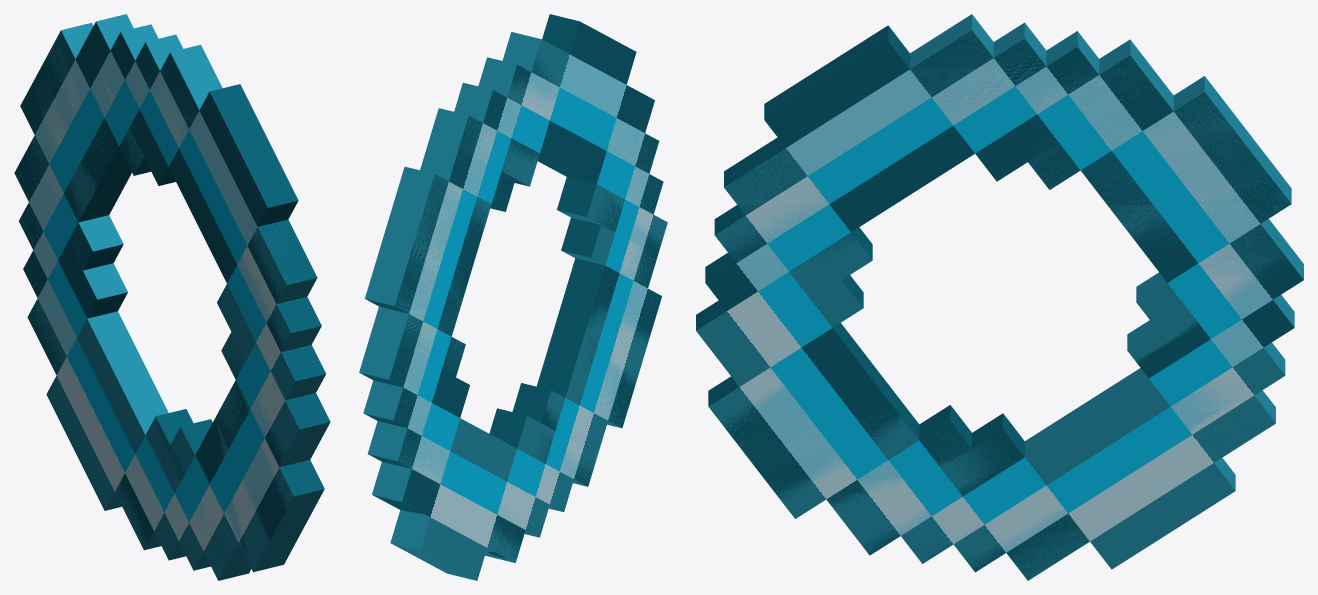
The model's file is chakram.glb.
3 renders of one model, left to right at view 1: azimuth 30°, elevation 25°; view 2: azimuth 150°, elevation 25°; view 3: azimuth 270°, elevation 25°, orthographic. The views are drawn at different scales.
Visible parts, largest first — view 1: main__Tool_R, off__Tool_L; view 2: off__Tool_L, main__Tool_R; view 3: main__Tool_R, off__Tool_L.
Part boxes in pixels (<box>): main__Tool_R: <box>14,22,330,580</box>; off__Tool_L: <box>14,14,330,571</box>; off__Tool_L: <box>359,14,663,569</box>; main__Tool_R: <box>359,21,667,580</box>; main__Tool_R: <box>696,30,1303,580</box>; off__Tool_L: <box>696,14,1303,579</box>.
Size of the model in its own units: 0.0531 by 0.853 by 0.853.
1 material, 1 textured.
